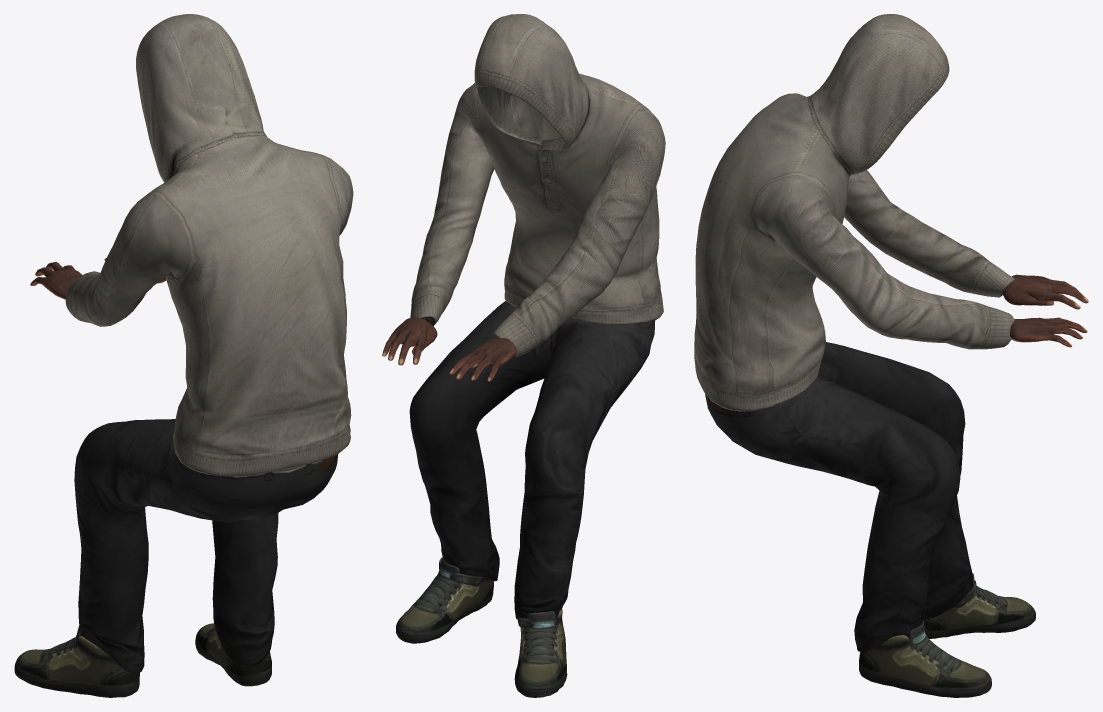
Rendered from hacker-hq.glb.
The picture shows the model from 3 angles, left to right: view 1: azimuth 30°, elevation 25°; view 2: azimuth 150°, elevation 25°; view 3: azimuth 270°, elevation 25°; orthographic projection. The views are drawn at different scales.
Parts seen in each view (by area): view 1: hacker; view 2: hacker; view 3: hacker.
Part boxes in pixels (<box>): hacker: <box>14,14,353,697</box>; hacker: <box>382,14,665,697</box>; hacker: <box>694,14,1088,697</box>.
Size of the model in its own units: 0.5005 by 1.44 by 0.8016.
Materials: 1 (1 with a texture image).
